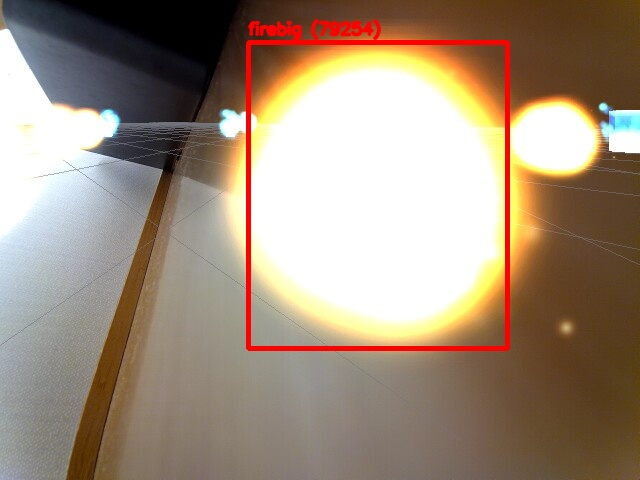firebig: (248, 42, 507, 348)
